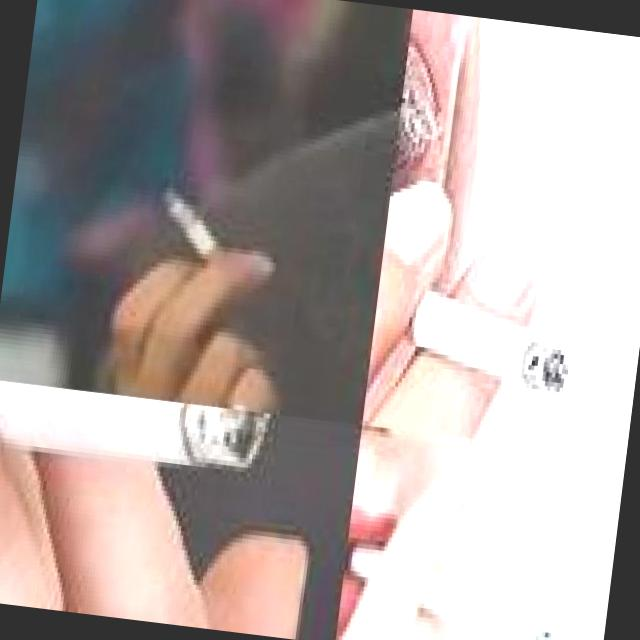smoke: (370, 262, 581, 402), (0, 379, 276, 484), (338, 537, 578, 640), (152, 187, 245, 281)
